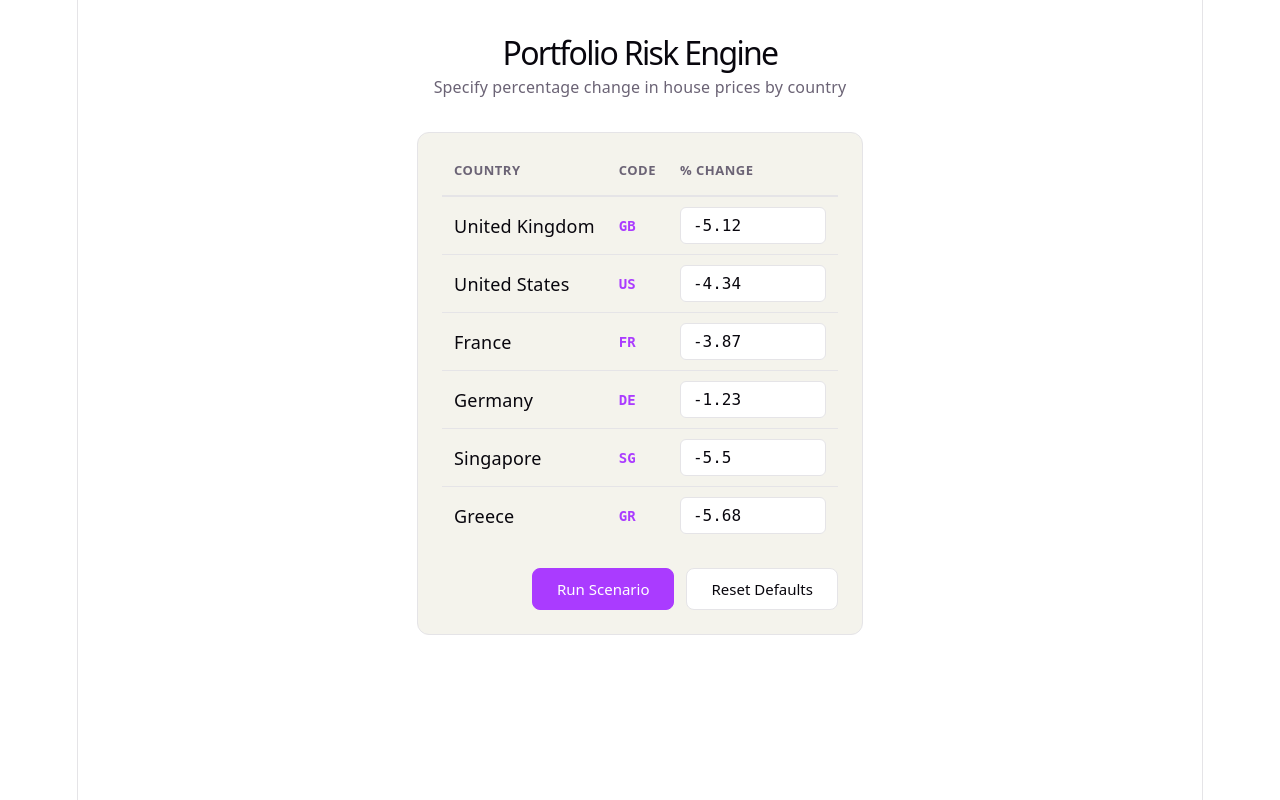
Test: HomePage › shows success message when API returns 201
Click the button "Run Scenario" at (603, 589), box left=532, top=568, right=674, bottom=610
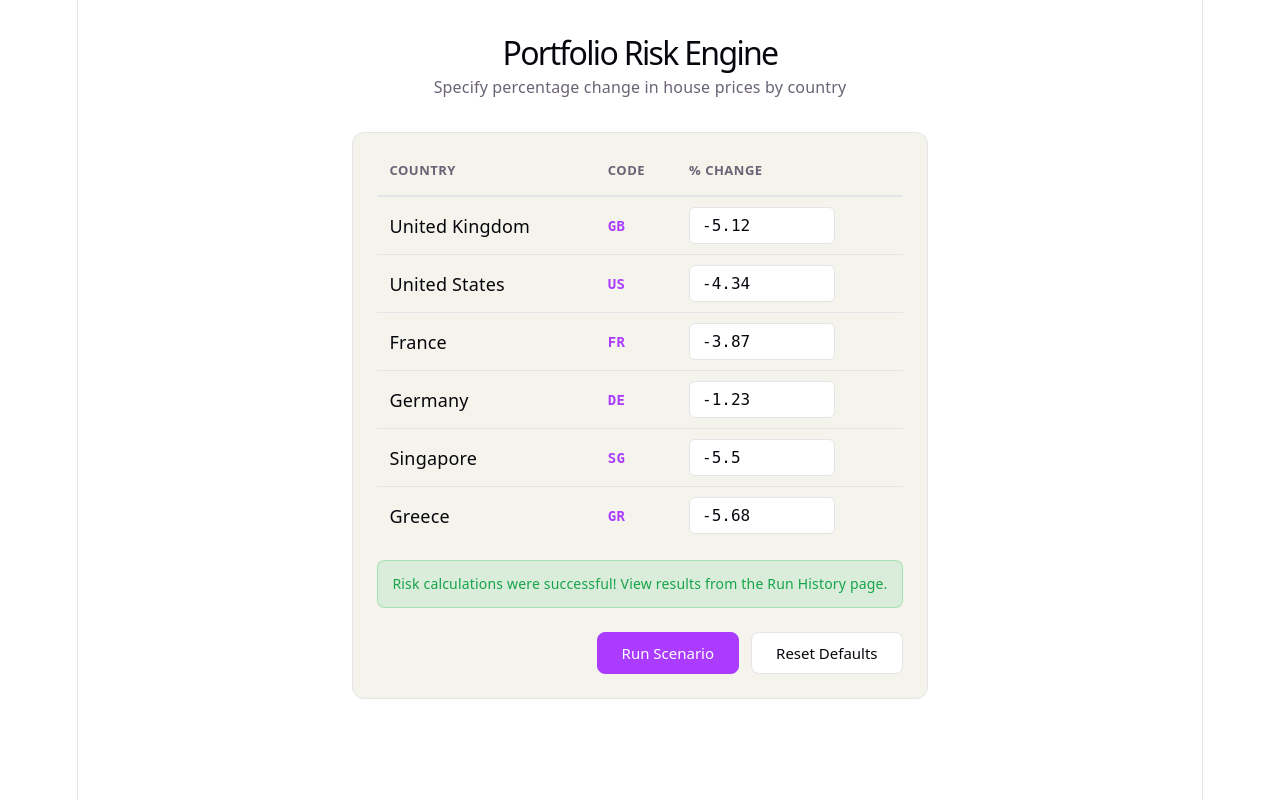
Now the text "Risk calculations were successful" is shown, box left=392, top=574, right=888, bottom=593
